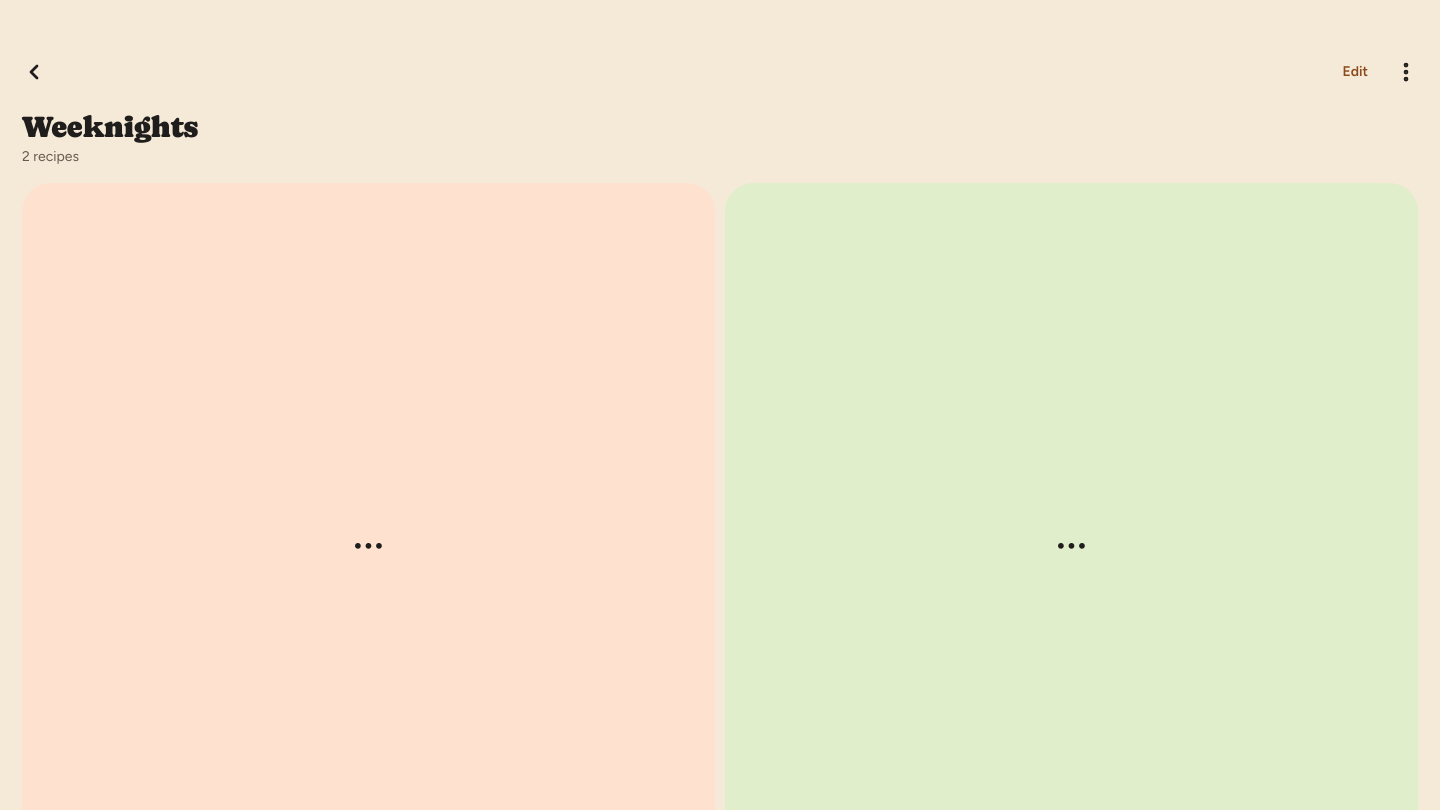
CollectionPage (RL-224) › Share as a cookbook (RL-257) › shows the cookbook cap copy in the sheet and keeps the description (RL-265)
This screenshot has width=1440, height=810.
Click the button named "More": (1406, 72) [1384, 50, 1428, 94]
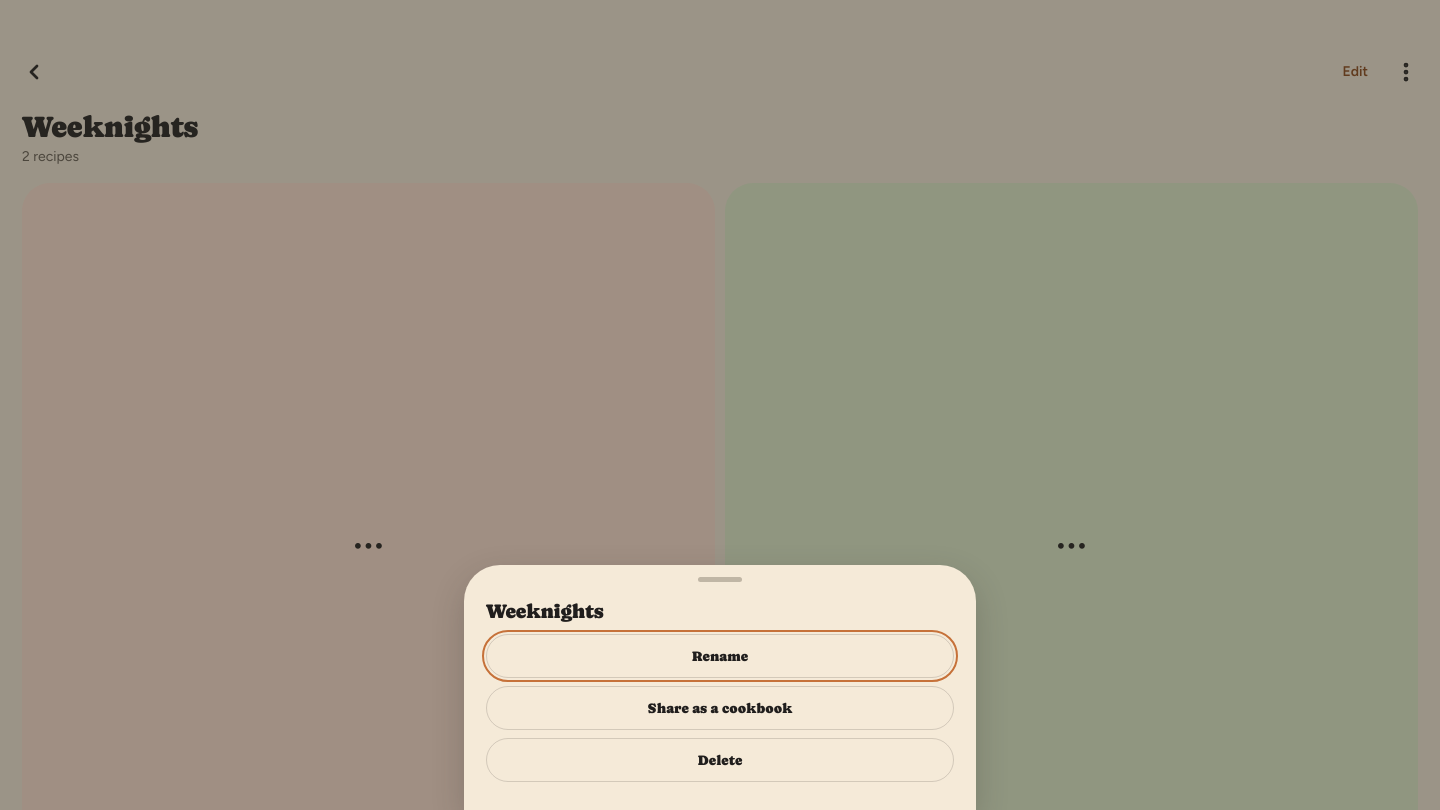
Click the button "Share as a cookbook": (720, 708) [486, 686, 954, 730]
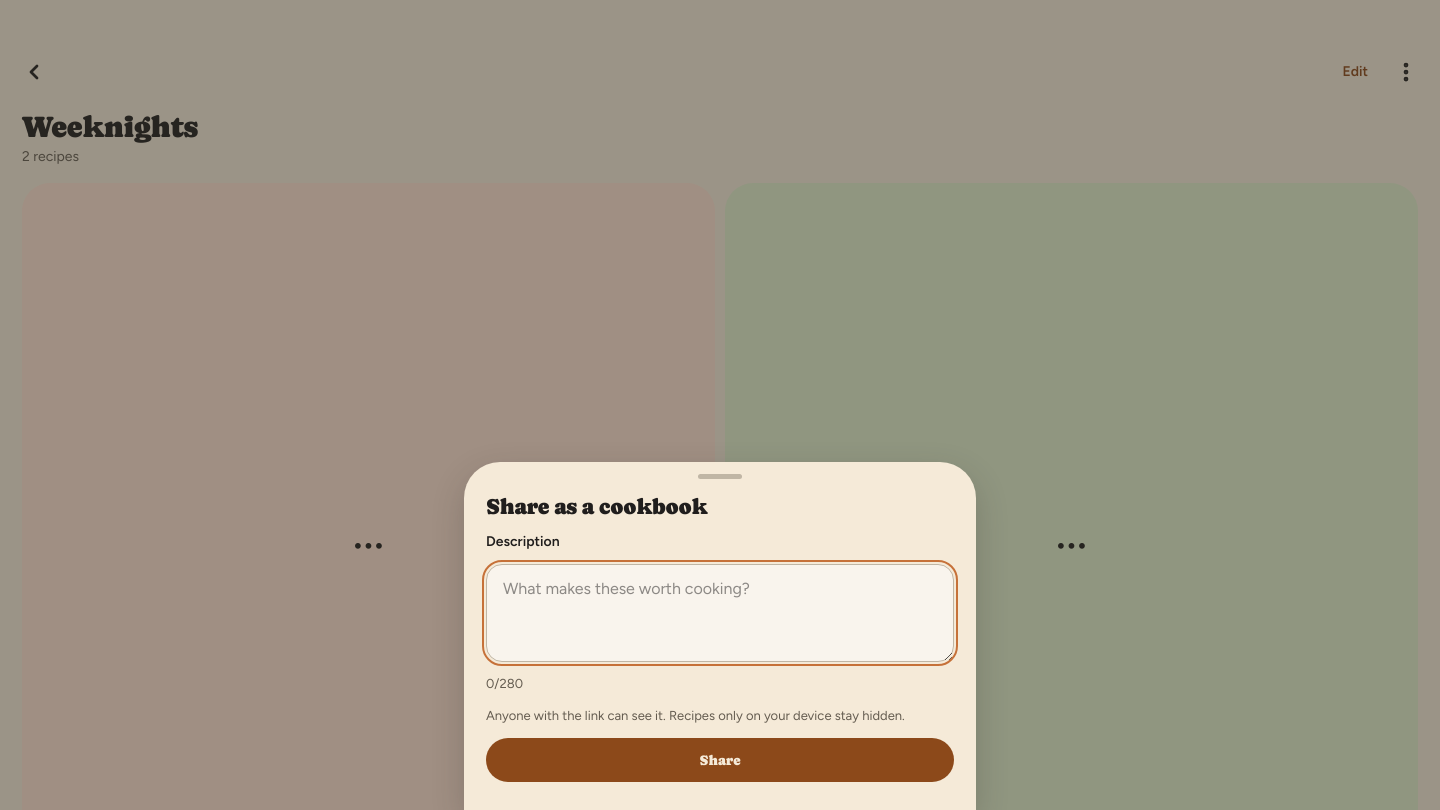
In the text box with placeholder "What makes these worth cooking?": (720, 613) [486, 564, 954, 662], type "Fast"
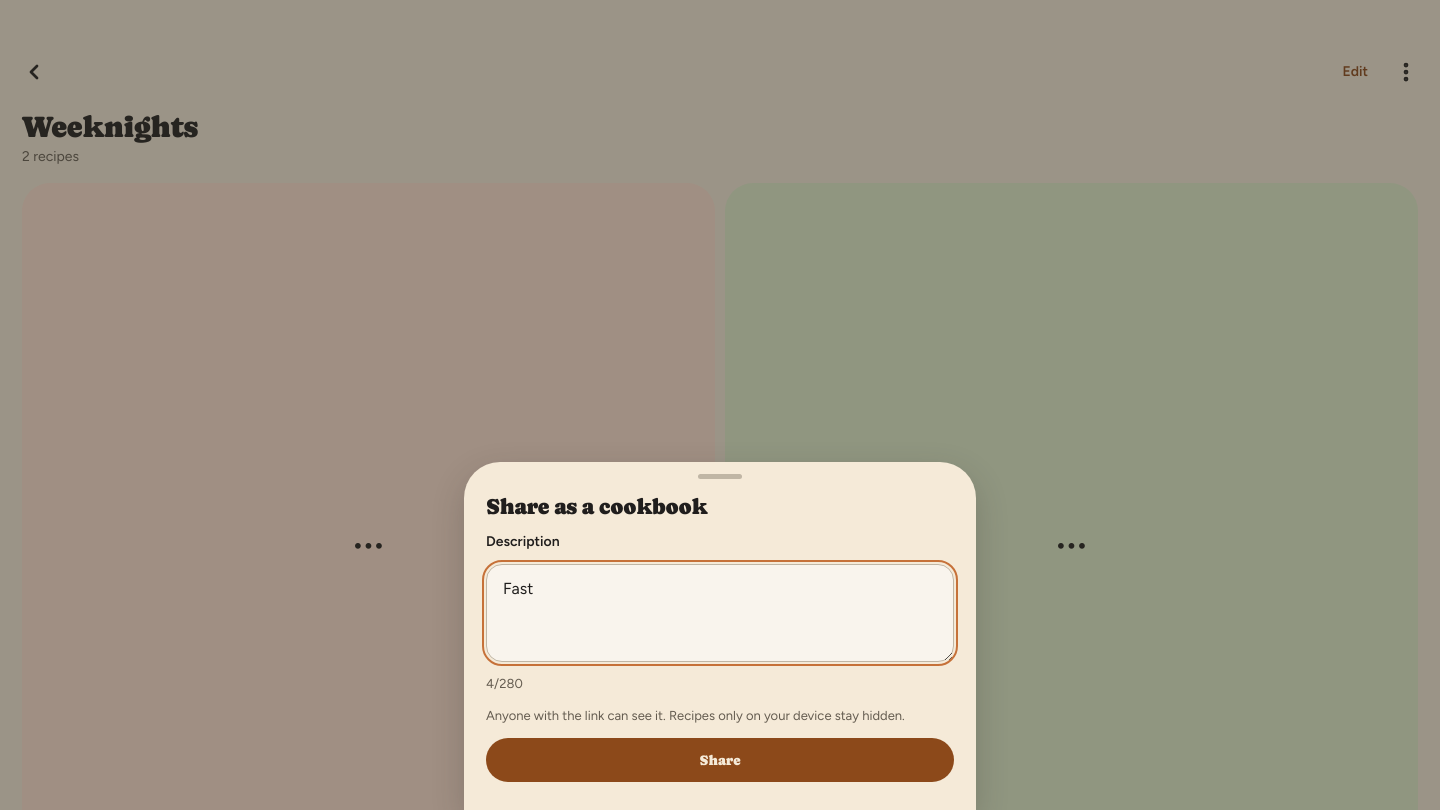
Click the button "Share": (720, 760) [486, 738, 954, 782]
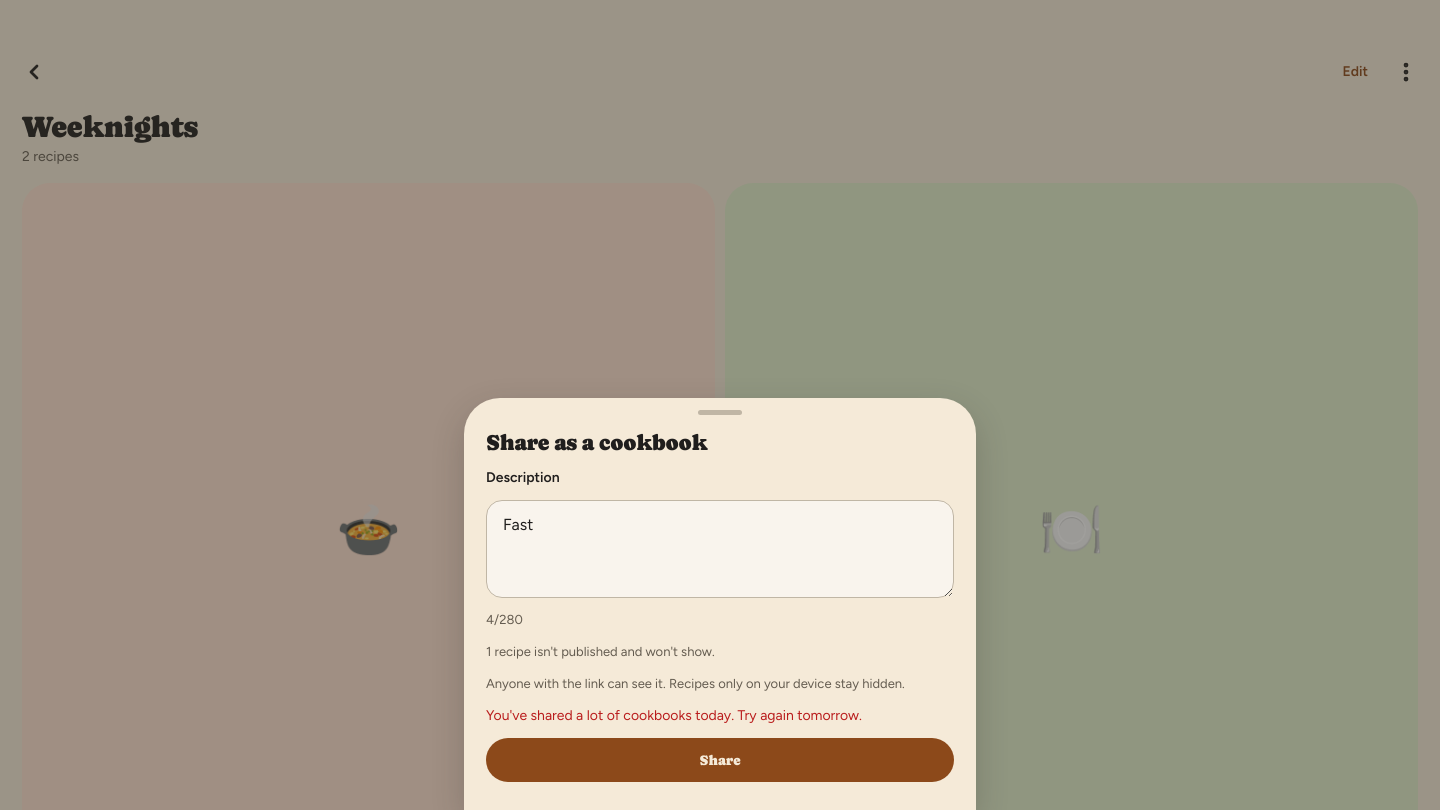
Result: the button "Share" is enabled at [486, 738, 954, 782]
Result: the message reads "You've shared a lot of cookbooks today. Try again tomorrow." at [486, 707, 862, 724]
